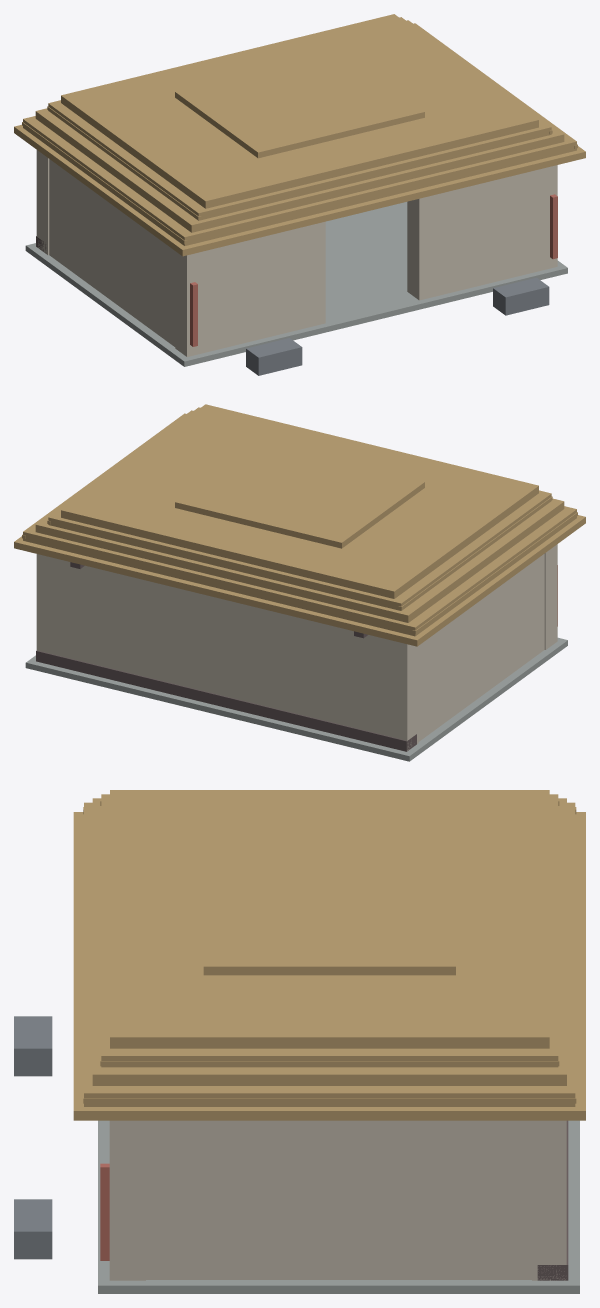
File: ancient_ruin_hall.glb
3 renders of one model, top to bottom at view 1: azimuth 30°, elevation 25°; view 2: azimuth 150°, elevation 25°; view 3: azimuth 270°, elevation 25°, orthographic. The views are drawn at different scales.
Visible parts, largest first — view 1: ancient_ruin_hall_09_roof_courses, ancient_ruin_hall_04_front_panels, ancient_ruin_hall_11_upper_ridge, ancient_ruin_hall_00_foundation, ancient_ruin_hall_02_side_walls, ancient_ruin_hall_08_eaves, ancient_ruin_hall_13_rubble, ancient_ruin_hall_10_ridge_trim, ancient_ruin_hall_03_back_wall, ancient_ruin_hall_12_banners; view 2: ancient_ruin_hall_09_roof_courses, ancient_ruin_hall_03_back_wall, ancient_ruin_hall_11_upper_ridge, ancient_ruin_hall_02_side_walls, ancient_ruin_hall_08_eaves, ancient_ruin_hall_00_foundation, ancient_ruin_hall_01_rear_base, ancient_ruin_hall_10_ridge_trim, ancient_ruin_hall_04_front_panels; view 3: ancient_ruin_hall_09_roof_courses, ancient_ruin_hall_02_side_walls, ancient_ruin_hall_11_upper_ridge, ancient_ruin_hall_08_eaves, ancient_ruin_hall_00_foundation, ancient_ruin_hall_04_front_panels, ancient_ruin_hall_10_ridge_trim, ancient_ruin_hall_03_back_wall, ancient_ruin_hall_13_rubble, ancient_ruin_hall_12_banners, ancient_ruin_hall_01_rear_base.
Boxes of the visible parts, x1=… form: ancient_ruin_hall_09_roof_courses: x1=23, y1=14, x2=576, y2=245; ancient_ruin_hall_04_front_panels: x1=175, y1=165, x2=557, y2=356; ancient_ruin_hall_11_upper_ridge: x1=175, y1=51, x2=424, y2=158; ancient_ruin_hall_00_foundation: x1=25, y1=202, x2=567, y2=366; ancient_ruin_hall_02_side_walls: x1=49, y1=159, x2=175, y2=346; ancient_ruin_hall_08_eaves: x1=14, y1=124, x2=585, y2=256; ancient_ruin_hall_13_rubble: x1=246, y1=277, x2=549, y2=375; ancient_ruin_hall_10_ridge_trim: x1=22, y1=106, x2=577, y2=243; ancient_ruin_hall_03_back_wall: x1=36, y1=150, x2=49, y2=255; ancient_ruin_hall_12_banners: x1=190, y1=194, x2=557, y2=346; ancient_ruin_hall_09_roof_courses: x1=23, y1=404, x2=576, y2=636; ancient_ruin_hall_03_back_wall: x1=36, y1=554, x2=418, y2=750; ancient_ruin_hall_11_upper_ridge: x1=175, y1=441, x2=424, y2=548; ancient_ruin_hall_02_side_walls: x1=418, y1=554, x2=544, y2=741; ancient_ruin_hall_08_eaves: x1=14, y1=515, x2=585, y2=646; ancient_ruin_hall_00_foundation: x1=25, y1=637, x2=567, y2=761; ancient_ruin_hall_01_rear_base: x1=36, y1=650, x2=416, y2=751; ancient_ruin_hall_10_ridge_trim: x1=22, y1=496, x2=577, y2=634; ancient_ruin_hall_04_front_panels: x1=544, y1=544, x2=557, y2=649; ancient_ruin_hall_09_roof_courses: x1=84, y1=790, x2=575, y2=1106; ancient_ruin_hall_02_side_walls: x1=146, y1=1120, x2=531, y2=1279; ancient_ruin_hall_11_upper_ridge: x1=203, y1=843, x2=455, y2=975; ancient_ruin_hall_08_eaves: x1=73, y1=812, x2=585, y2=1120; ancient_ruin_hall_00_foundation: x1=98, y1=1120, x2=579, y2=1293; ancient_ruin_hall_04_front_panels: x1=109, y1=1120, x2=145, y2=1280; ancient_ruin_hall_10_ridge_trim: x1=83, y1=798, x2=576, y2=1103; ancient_ruin_hall_03_back_wall: x1=532, y1=1120, x2=566, y2=1280; ancient_ruin_hall_13_rubble: x1=14, y1=1016, x2=52, y2=1259; ancient_ruin_hall_12_banners: x1=100, y1=1163, x2=109, y2=1260; ancient_ruin_hall_01_rear_base: x1=537, y1=1120, x2=568, y2=1280.
Size of the model in its own units: 18.5 by 7.12 by 14.96.
